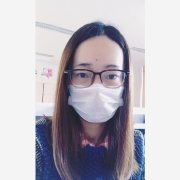face_mask: (66, 41, 124, 121)
